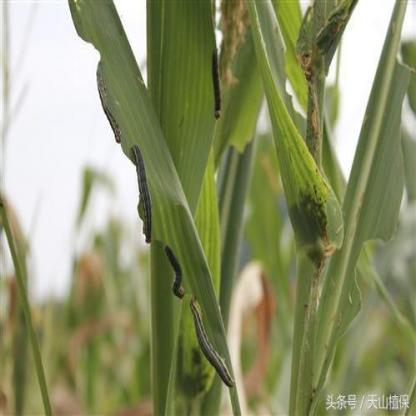armyworm: (187, 293, 234, 394), (128, 144, 154, 252), (161, 238, 184, 309), (210, 45, 224, 125), (103, 105, 122, 151)
